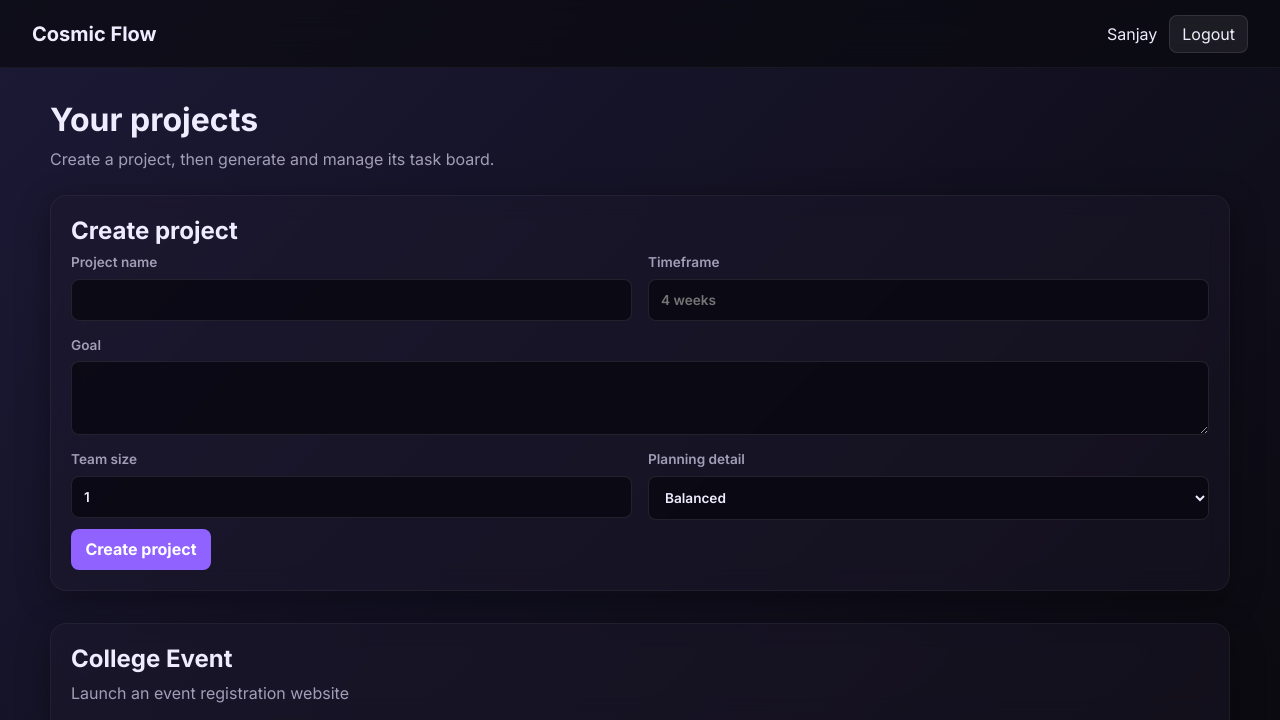
Test: Phase 3 application › logs out and returns to the login page
Step 1. Click the button "Logout" → (1209, 34), box [1169,14,1248,52]
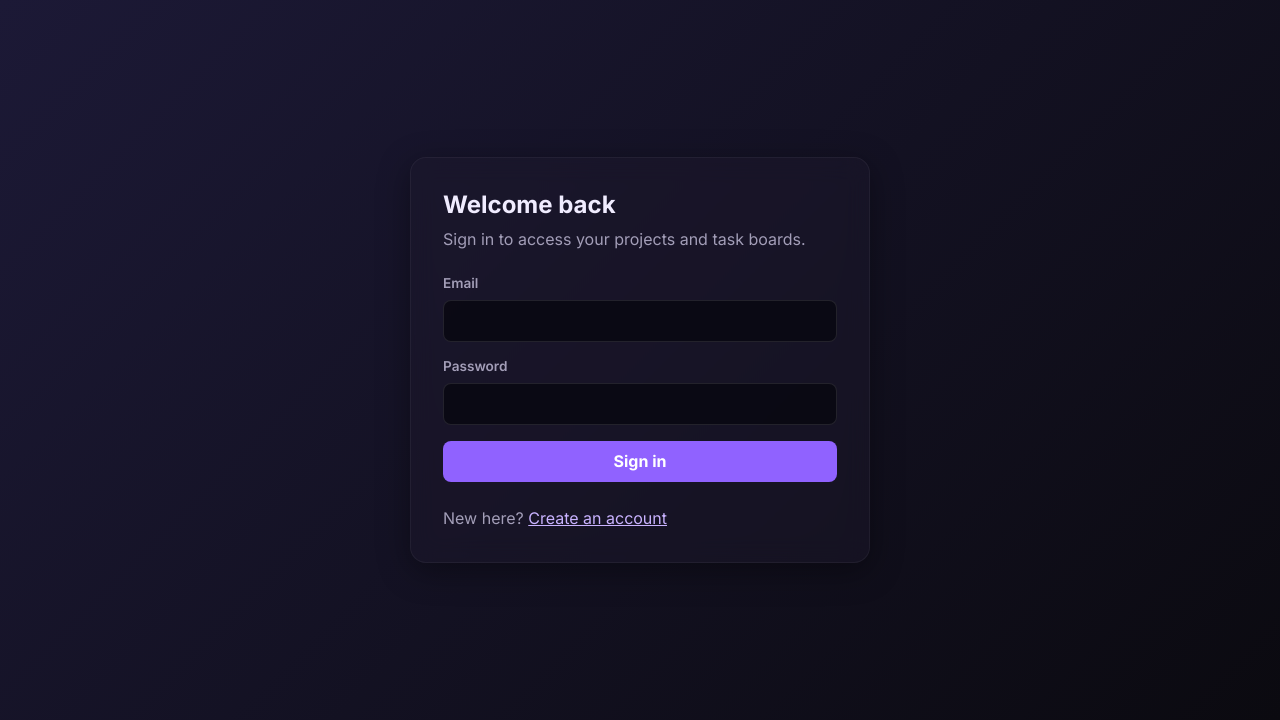
Expected: the heading "Welcome back" is shown, [443,190,616,219]
